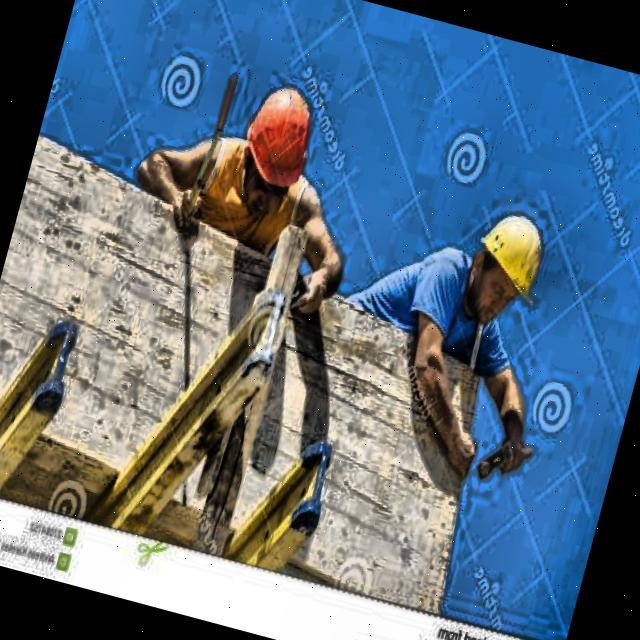helmet: (216, 62, 333, 233), (451, 192, 558, 337)
